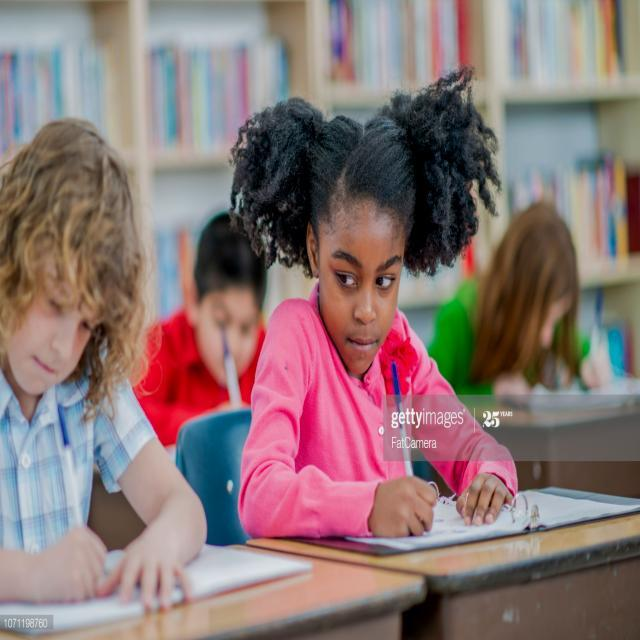cheating: (226, 63, 503, 570)
good: (0, 100, 216, 640)
